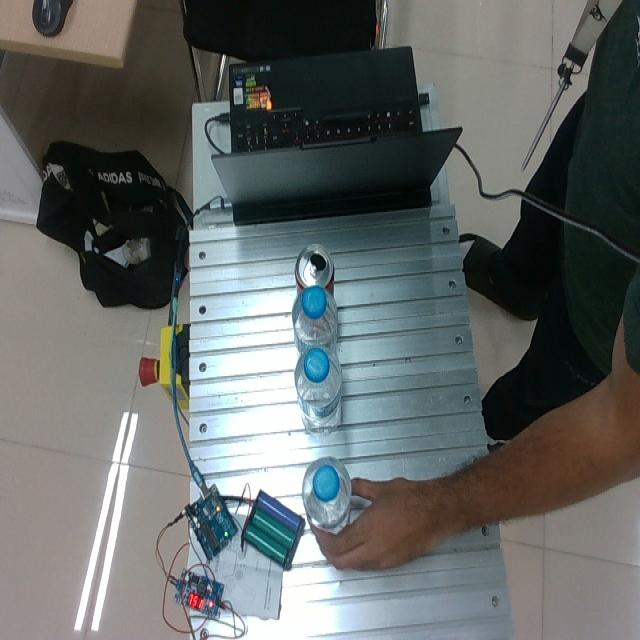coca: (293, 242, 335, 298)
lavie: (294, 345, 344, 435), (301, 455, 353, 533), (292, 285, 339, 355)
